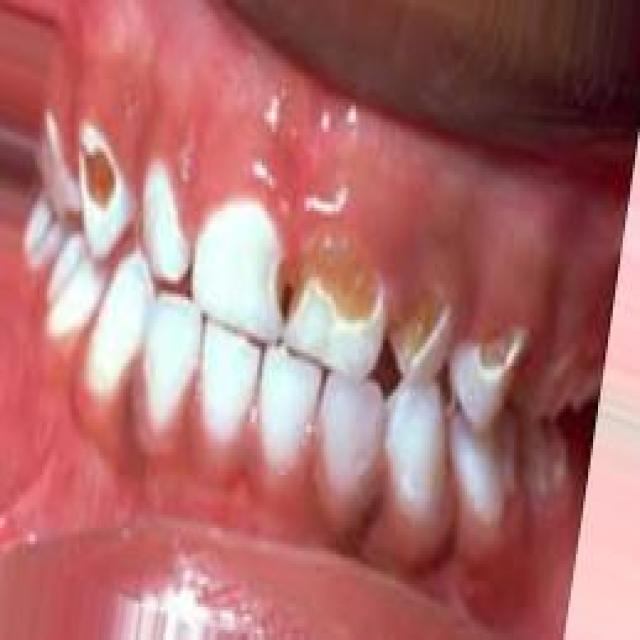caries: (292, 230, 389, 366), (70, 129, 132, 242), (392, 284, 453, 382), (462, 312, 524, 407)
